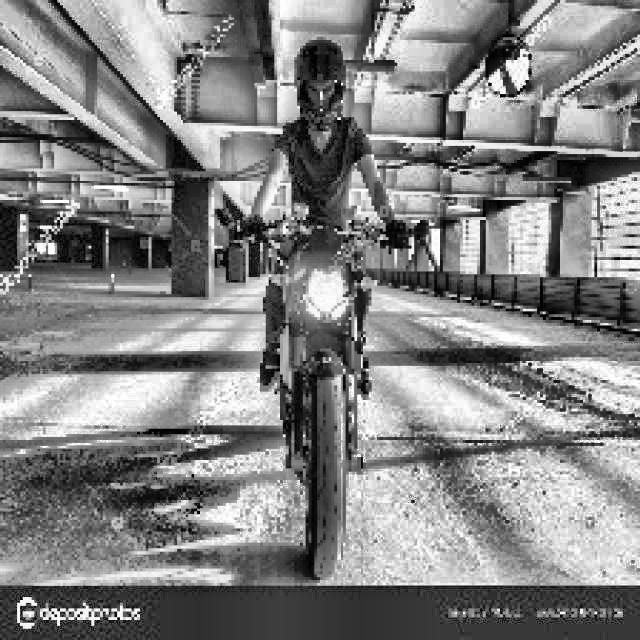motorcycle: (217, 189, 434, 586)
